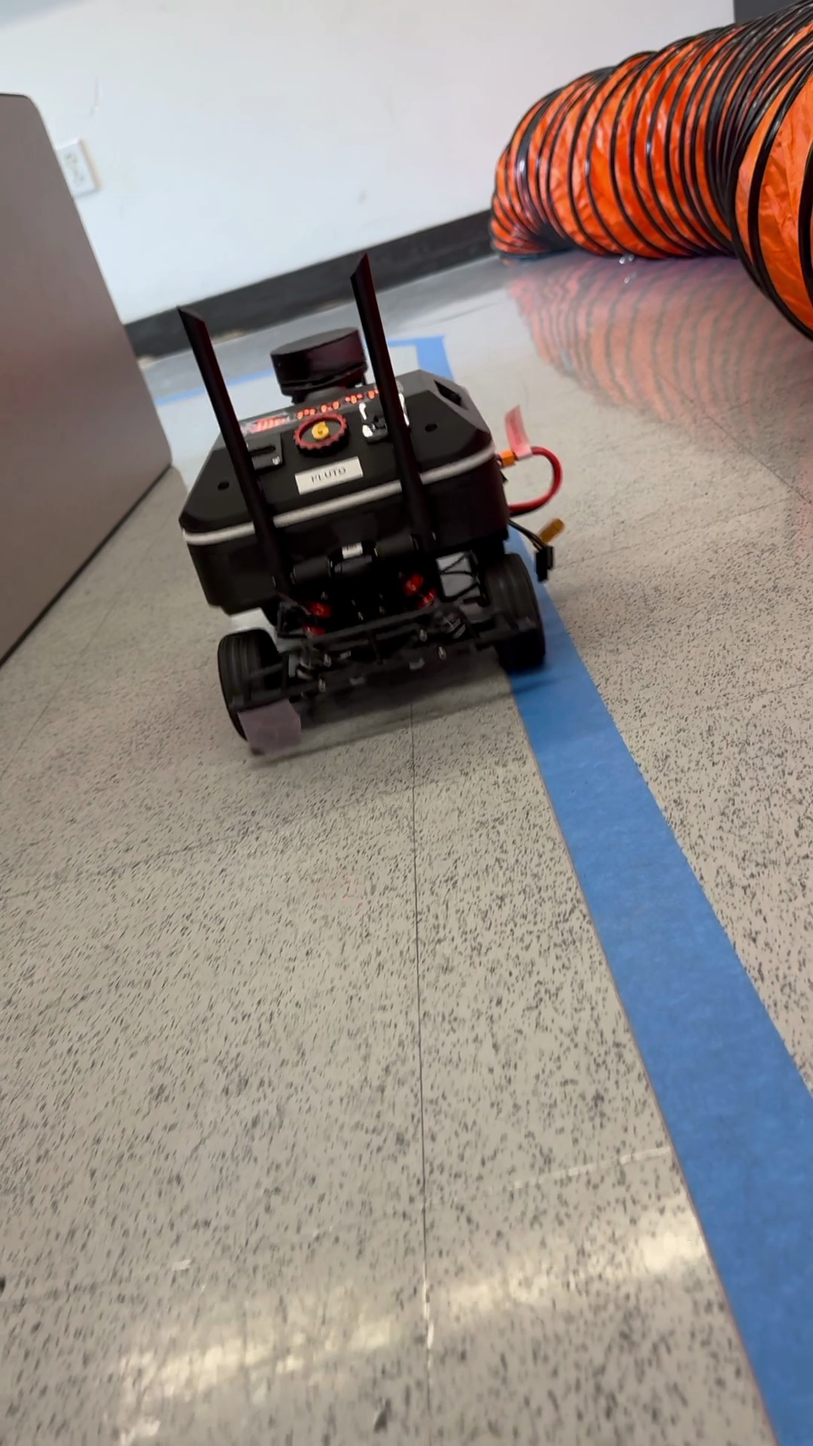racecar: (179, 251, 565, 756)
